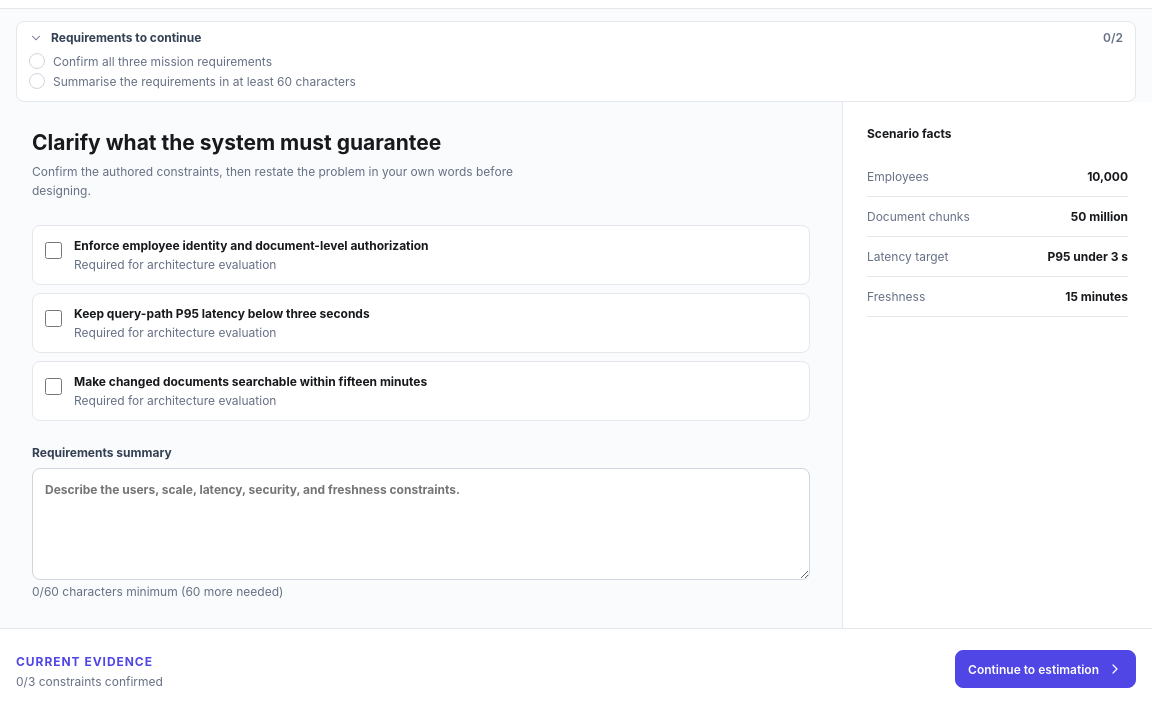
Test: MissionWorkspace validation state › clears the stage banner once the underlying issue is fixed, without a resubmit
(page scrolled)
Click the button "Continue to estimation". click: [1046, 669]
box: [955,650,1136,688]
(page scrolled)
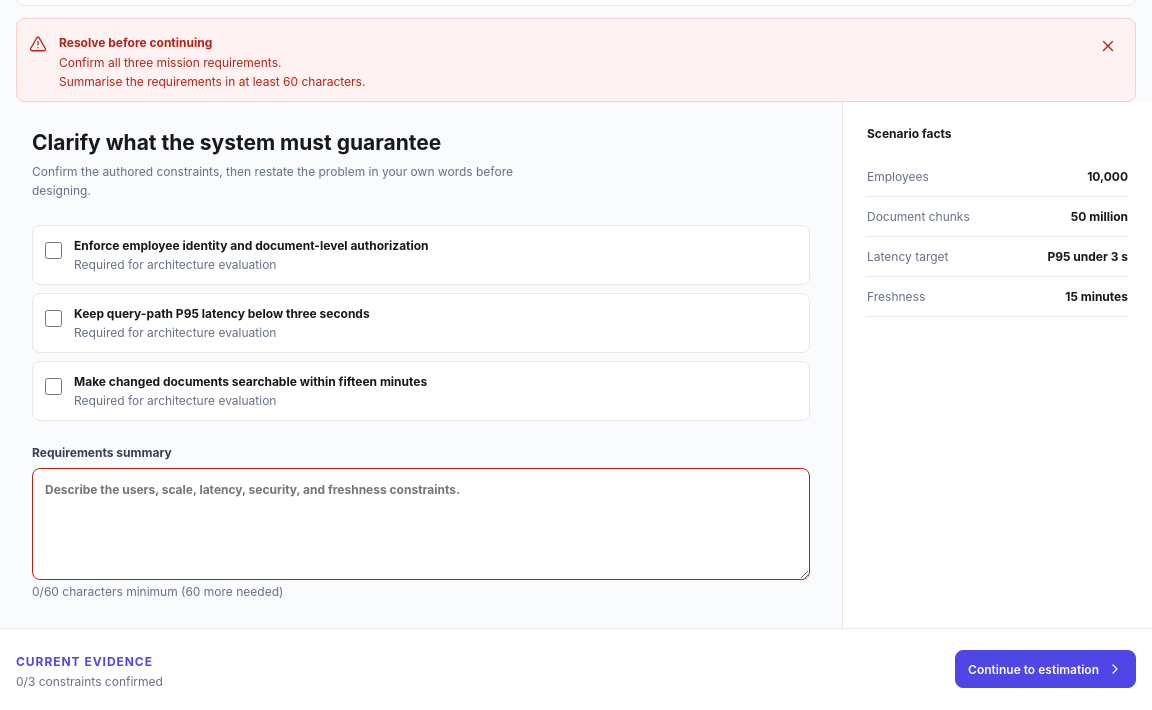
Expected: the message shows "Resolve before continuing", [59,35,212,50]
Click the checkbox labelled "Enforce employee identity". click: [54, 250]
box: [45,242,62,259]
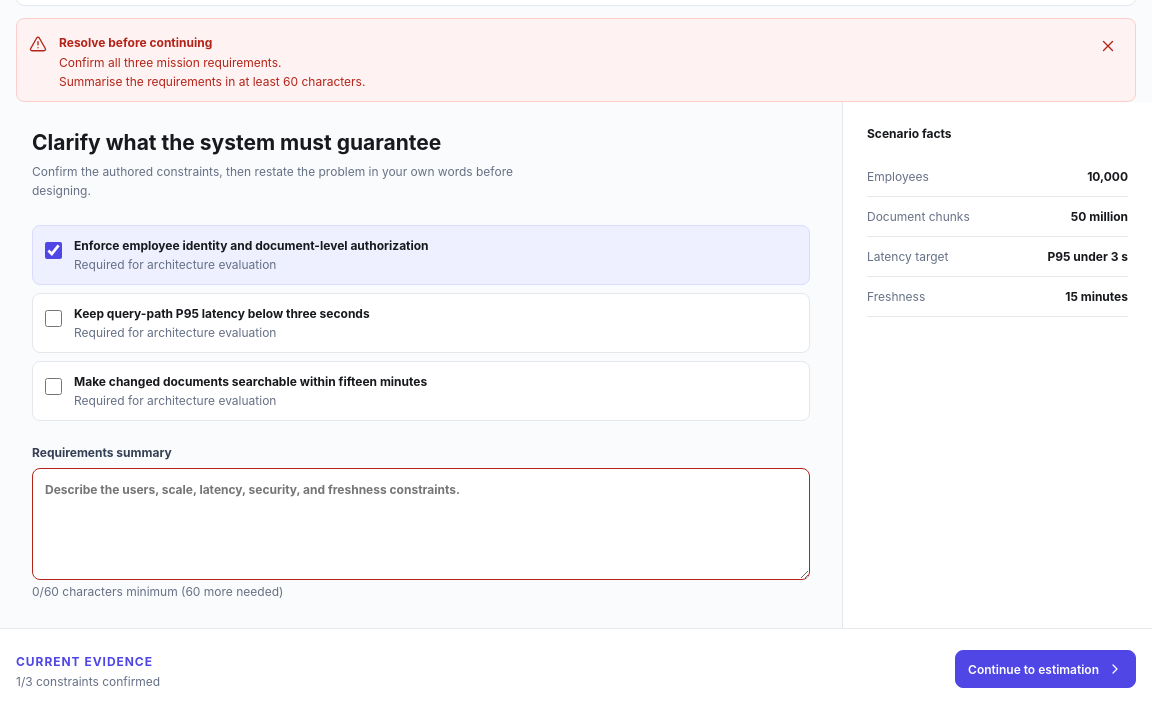
Click the checkbox labelled "Keep query-path P95 latency". click: [54, 318]
box: [45,310,62,327]
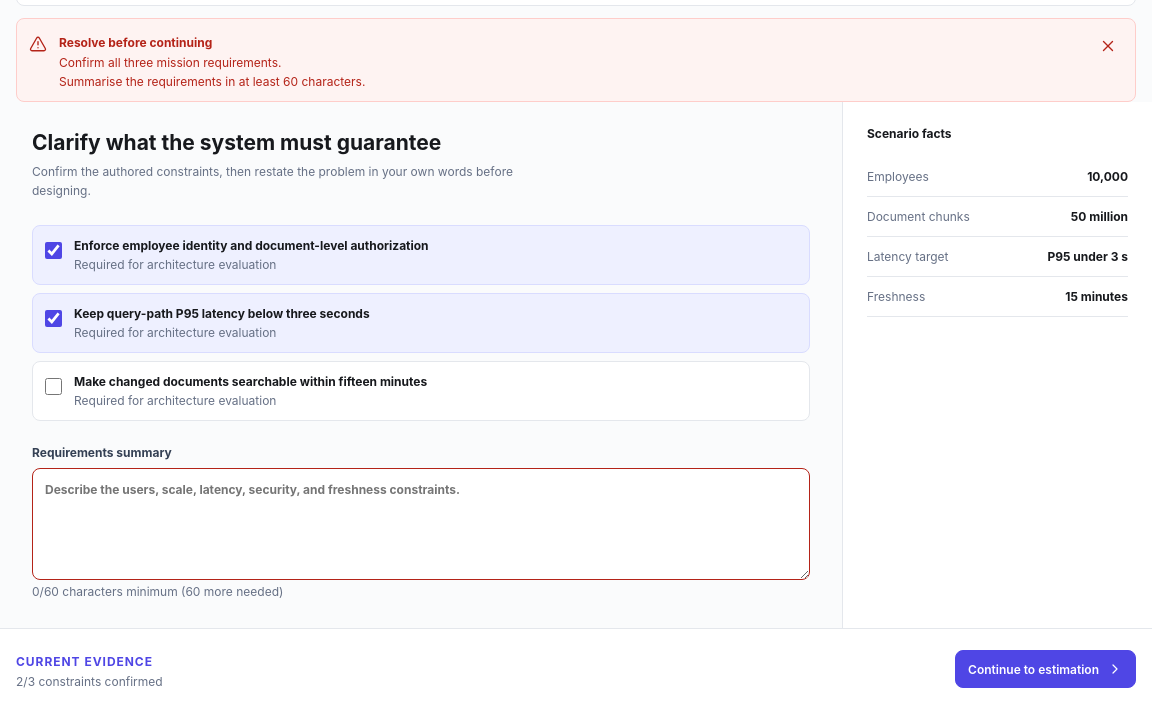
Click the checkbox labelled "Make changed documents searchable". click: [54, 386]
box: [45,378,62,395]
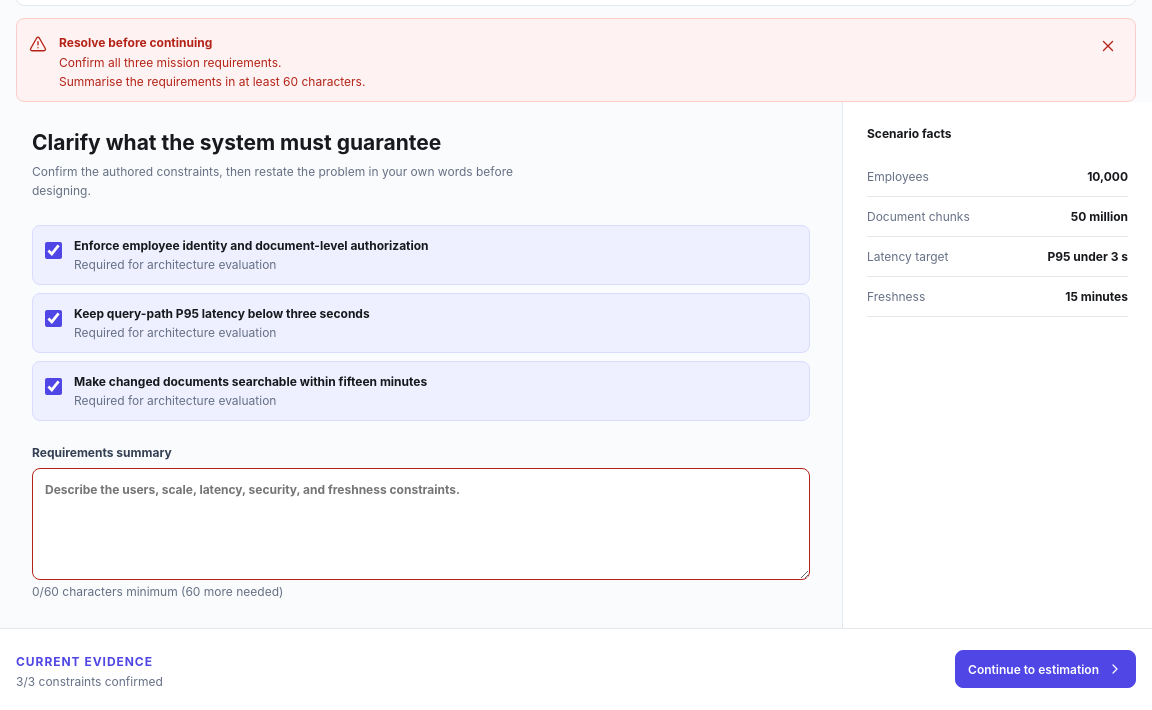
Replace the text in the text box with placeholder "Describe the users, scale, latency, security" with "Ten thousand employees need sub-3-second grounded answers with fifteen-minute freshness guarantees.". click: [421, 524]
box: [32,468,810,580]
(page scrolled)
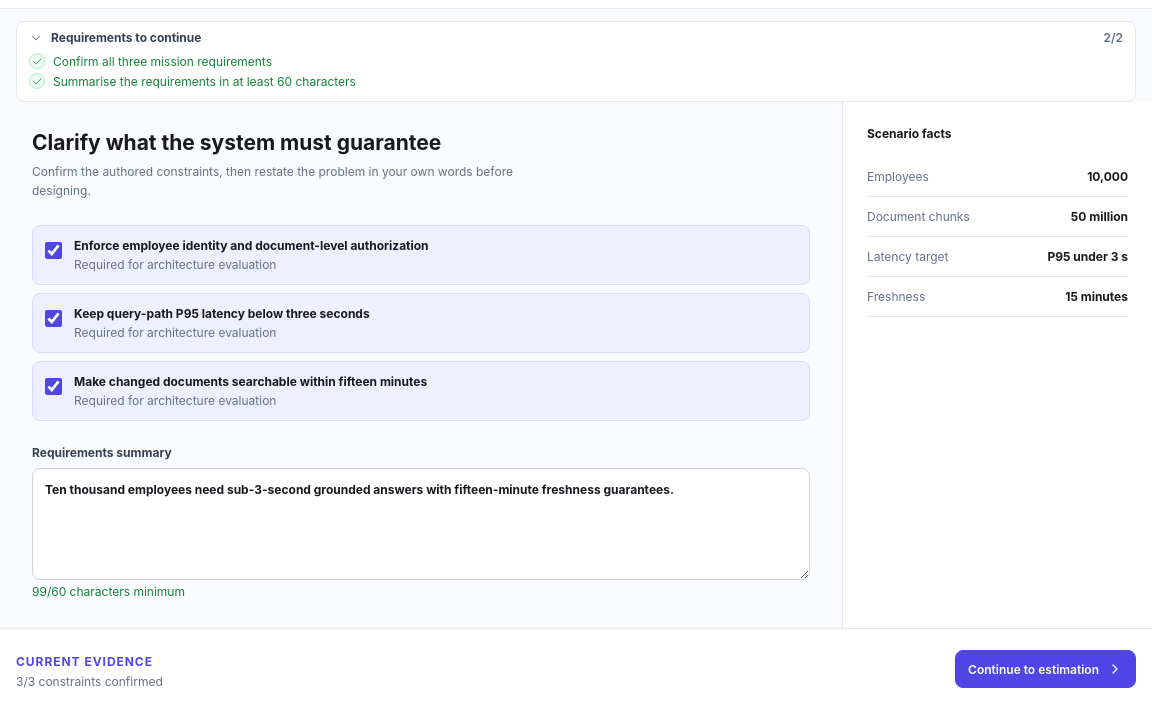
Expected: the message "Resolve before continuing Confirm all three mission requirements. Summarise the" is gone
